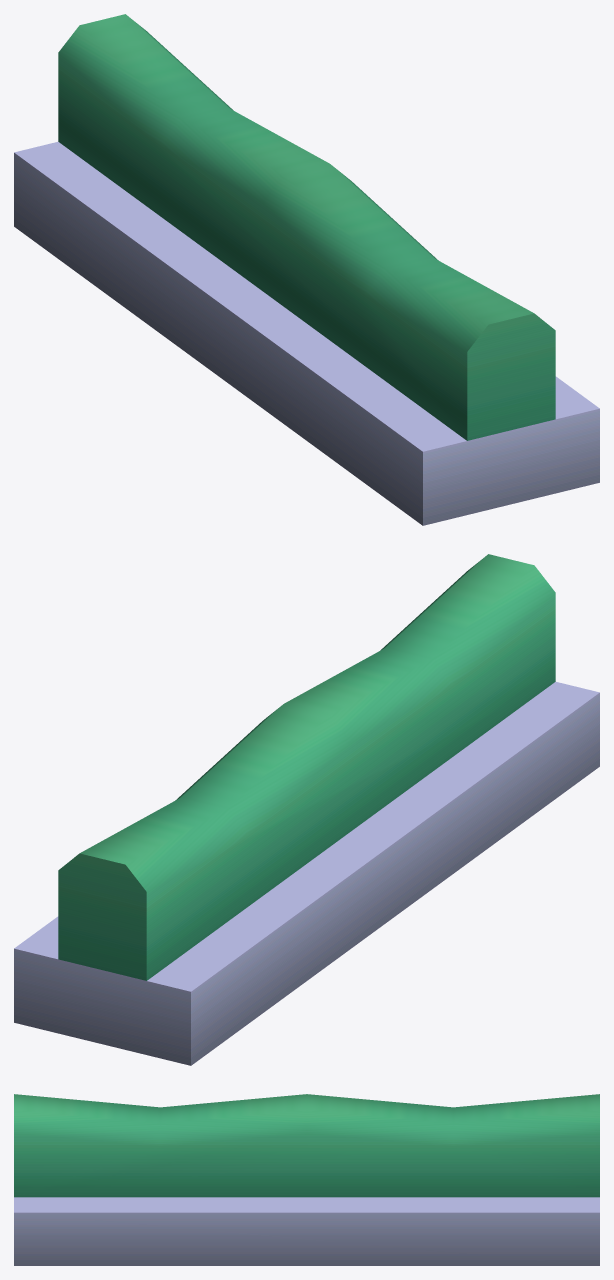
Rendered from hedge.glb.
3 renders of one model, top to bottom at view 1: azimuth 30°, elevation 25°; view 2: azimuth 150°, elevation 25°; view 3: azimuth 270°, elevation 25°, orthographic. The views are drawn at different scales.
Visible parts, largest first — view 1: hedge; view 2: hedge; view 3: hedge.
Part boxes in pixels (x1,y1,x2,y2): hedge: (14,14,599,525); hedge: (14,554,599,1065); hedge: (14,1094,599,1265).
Size of the model in its own units: 0.25 by 0.25 by 1.
Materials: 1 (1 with a texture image).
